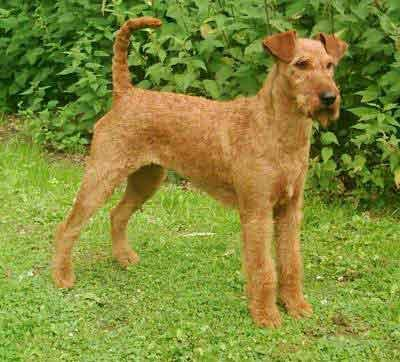wire-haired_fox_terrier: (46, 14, 351, 334)
